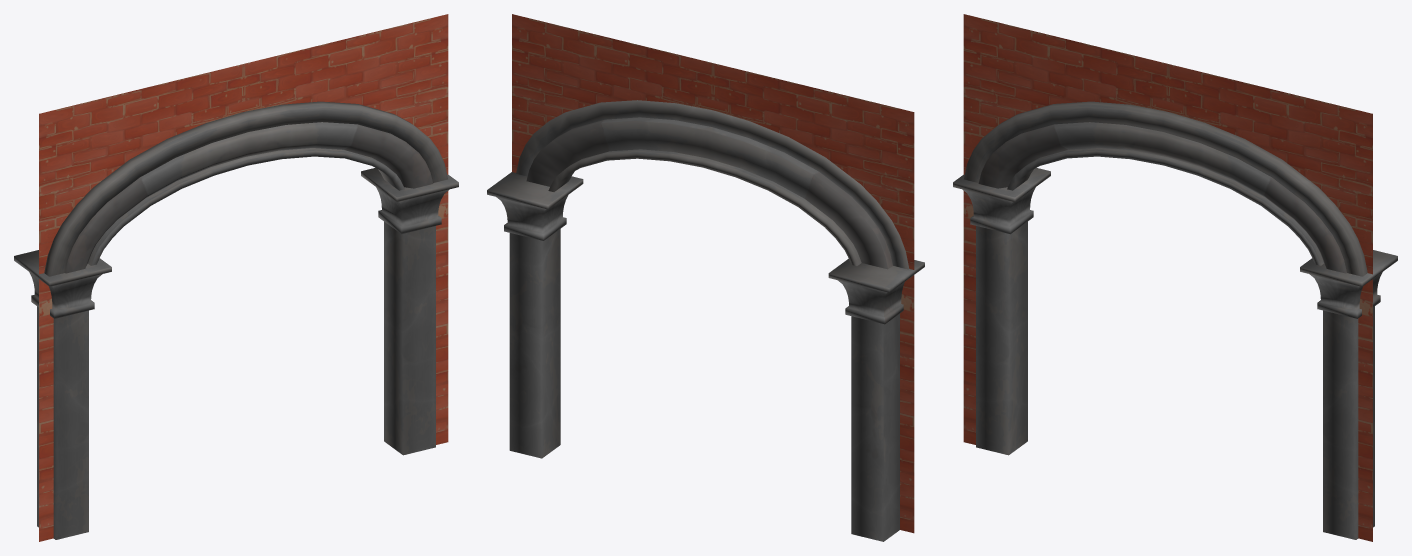
Rendered from Test_Trims.fbx.
3 views of the same model, side by side, from view 1: azimuth 30°, elevation 25°; view 2: azimuth 150°, elevation 25°; view 3: azimuth 330°, elevation 25° (orthographic).
Visible parts, largest first — view 1: Plane; view 2: Plane; view 3: Plane.
Part boxes in pixels (x1,y1,x2,y2): Plane: [14, 14, 458, 541]; Plane: [487, 14, 924, 541]; Plane: [953, 14, 1397, 541].
Bounding box in the file's own units: 4 × 4 × 0.6069.
